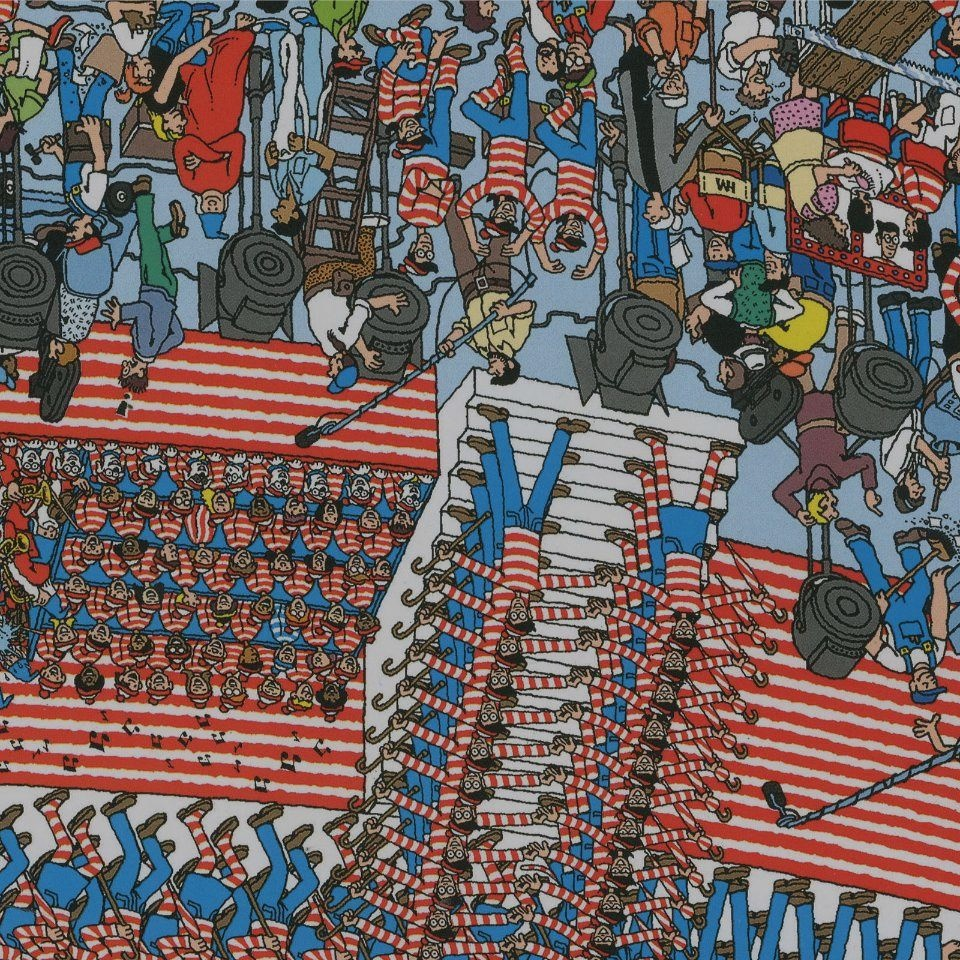waldo: (398, 159, 454, 275), (501, 528, 541, 637), (942, 244, 960, 376), (105, 907, 145, 960), (249, 924, 290, 960), (471, 699, 503, 740), (438, 835, 468, 876), (459, 738, 492, 775), (458, 771, 491, 804), (491, 635, 523, 669), (445, 805, 476, 838), (430, 877, 459, 912), (483, 668, 510, 701), (430, 910, 452, 942), (413, 940, 447, 960)
